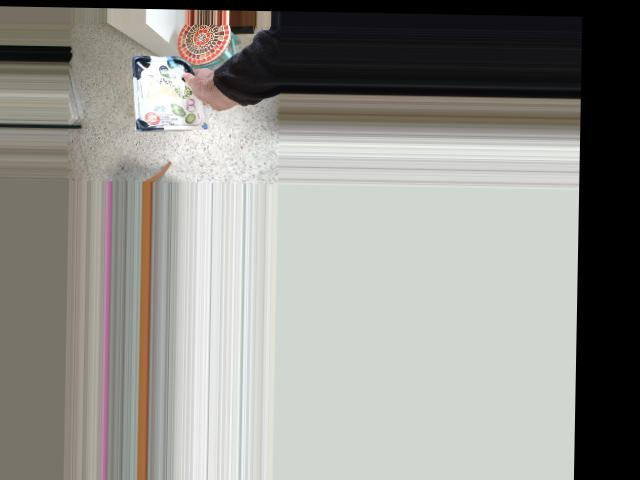cheese: (134, 46, 231, 142)
